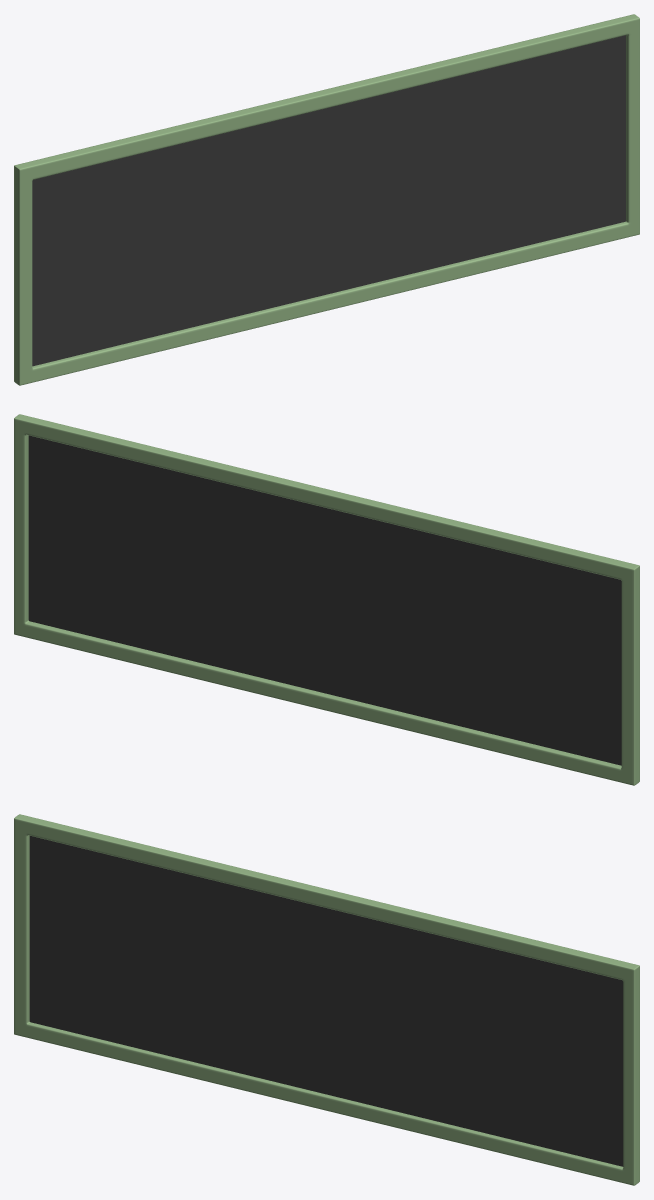
File: heiban.fbx
3 renders of one model, top to bottom at view 1: azimuth 30°, elevation 25°; view 2: azimuth 150°, elevation 25°; view 3: azimuth 330°, elevation 25°, orthographic.
Parts seen in each view (by area): view 1: Plane04; view 2: Plane04; view 3: Plane04.
Boxes of the visible parts, box(x1,y1,x2,y2) form: Plane04: box(14, 14, 639, 385); Plane04: box(14, 414, 639, 785); Plane04: box(14, 814, 639, 1185).
Bounding box in the file's own units: 180 × 60.01 × 2.99.
